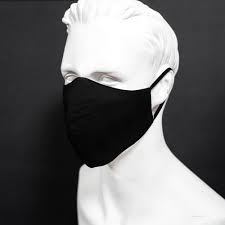cloth_mask: (59, 67, 176, 170)
